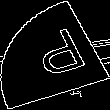P_S: (21, 25, 89, 85)
